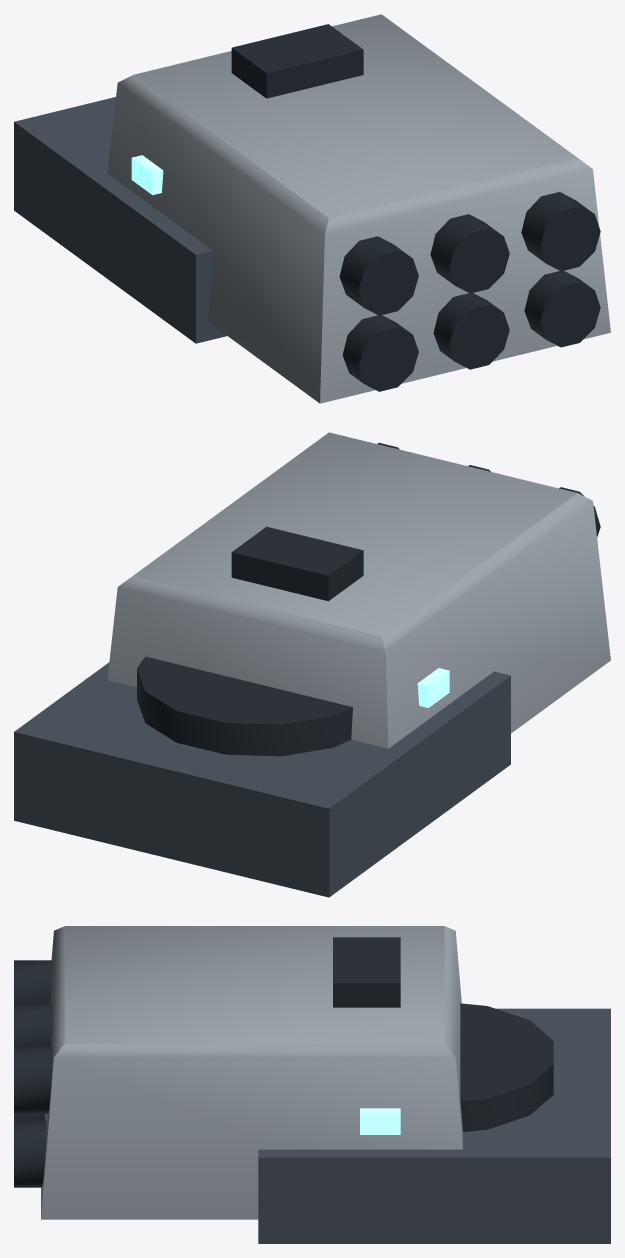
The model's file is arena_weapon_rocket.glb.
The picture shows the model from 3 angles, top to bottom: view 1: azimuth 30°, elevation 25°; view 2: azimuth 150°, elevation 25°; view 3: azimuth 270°, elevation 25°; orthographic projection. The views are drawn at different scales.
Visible parts, largest first — view 1: pod_box, base, sights, tube_3, tube_4, tube_5, tube_2, tube_1, tube_0, pod_band; view 2: pod_box, base, yaw_pivot, sights, pod_band; view 3: pod_box, base, yaw_pivot, sights, tube_5, tube_2, tube_3, tube_4, pod_band.
Boxes of the visible parts, left/top/right/bottom form: pod_box: left=107, top=14, right=610, bottom=403; base: left=14, top=97, right=226, bottom=343; sights: left=231, top=24, right=363, bottom=98; tube_3: left=339, top=236, right=418, bottom=315; tube_4: left=430, top=214, right=509, bottom=293; tube_5: left=521, top=192, right=600, bottom=271; tube_2: left=524, top=270, right=600, bottom=347; tube_1: left=433, top=293, right=509, bottom=369; tube_0: left=342, top=315, right=418, bottom=391; pod_band: left=131, top=155, right=163, bottom=195; pod_box: left=107, top=432, right=610, bottom=748; base: left=14, top=662, right=510, bottom=897; yaw_pivot: left=137, top=656, right=352, bottom=756; sights: left=231, top=526, right=363, bottom=601; pod_band: left=417, top=668, right=449, bottom=707; pod_box: left=41, top=926, right=462, bottom=1219; base: left=258, top=1008, right=610, bottom=1243; yaw_pivot: left=460, top=1003, right=553, bottom=1131; sights: left=333, top=937, right=400, bottom=1007; tube_5: left=14, top=1046, right=52, bottom=1113; tube_2: left=14, top=1120, right=46, bottom=1187; tube_3: left=14, top=960, right=52, bottom=1003; tube_4: left=14, top=1003, right=52, bottom=1046; pod_band: left=360, top=1108, right=400, bottom=1134.
Size of the model in its own units: 5.2 by 3.4 by 8.8.
